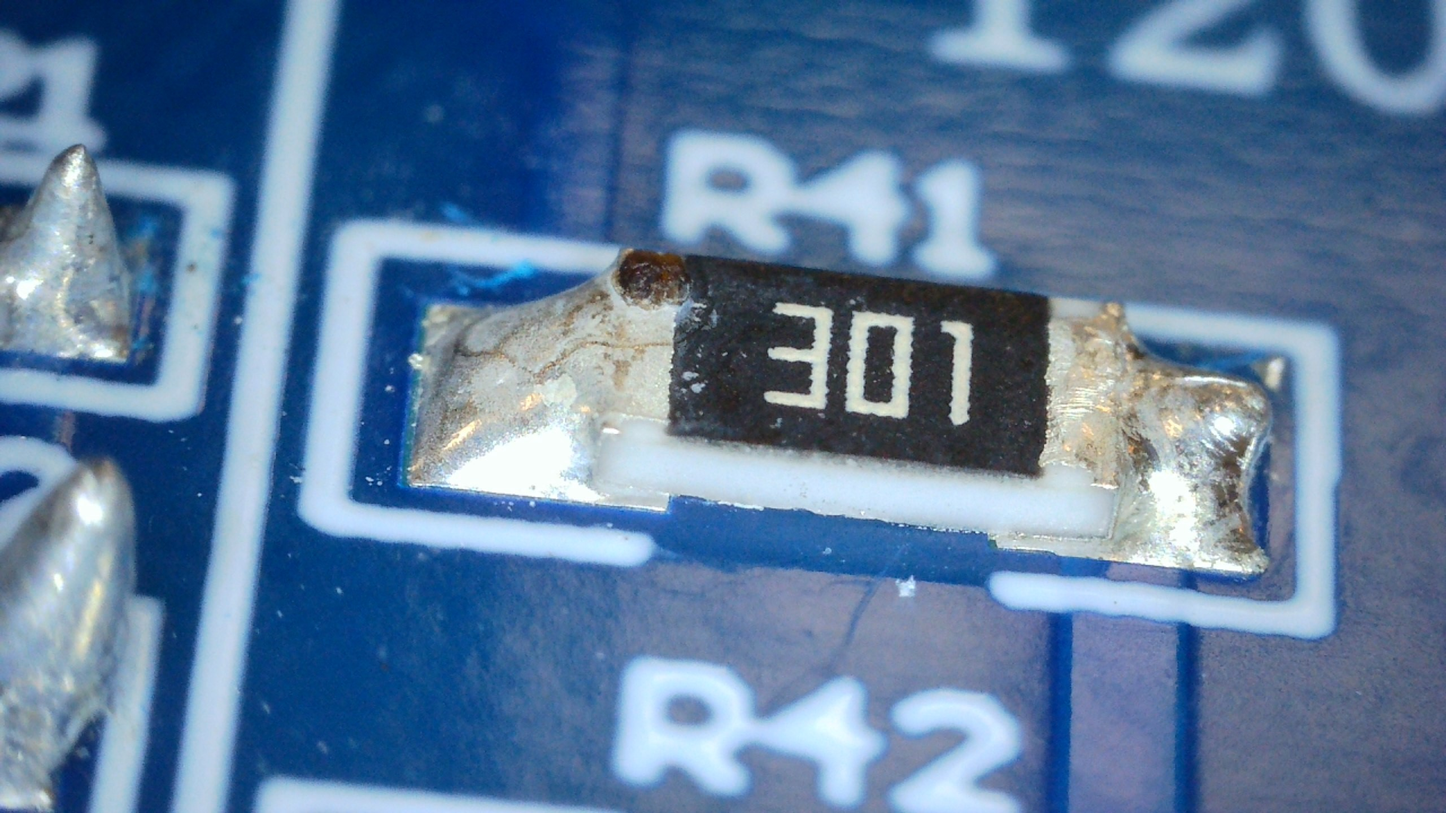NG: (1118, 327, 1274, 572)
OK: (410, 248, 679, 501)
